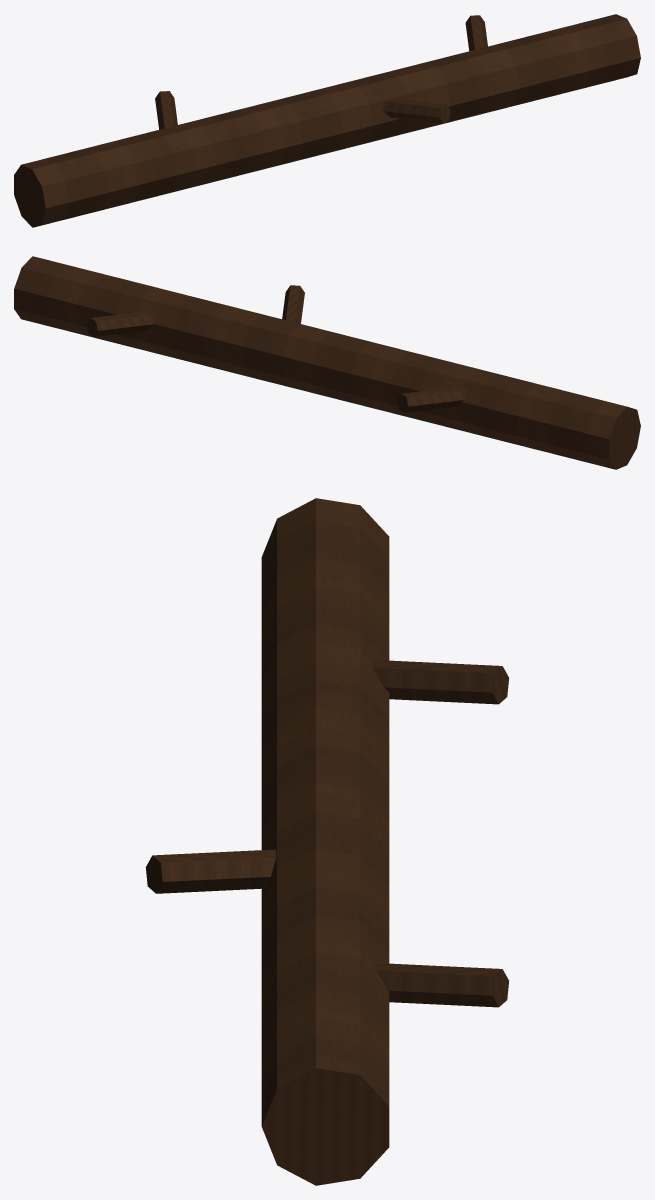
The model's file is level_woodland_deadfall.glb.
The picture shows the model from 3 angles, top to bottom: view 1: azimuth 30°, elevation 25°; view 2: azimuth 150°, elevation 25°; view 3: azimuth 270°, elevation 25°; orthographic projection. The views are drawn at different scales.
Visible parts, largest first — view 1: level_woodland_deadfall; view 2: level_woodland_deadfall; view 3: level_woodland_deadfall.
Part boxes in pixels (x1,y1,x2,y2): level_woodland_deadfall: (14,14,640,227); level_woodland_deadfall: (14,256,640,469); level_woodland_deadfall: (145,498,508,1185).
Size of the model in its own units: 4.6 by 0.4733 by 1.22.
Materials: 1 (1 with a texture image).
